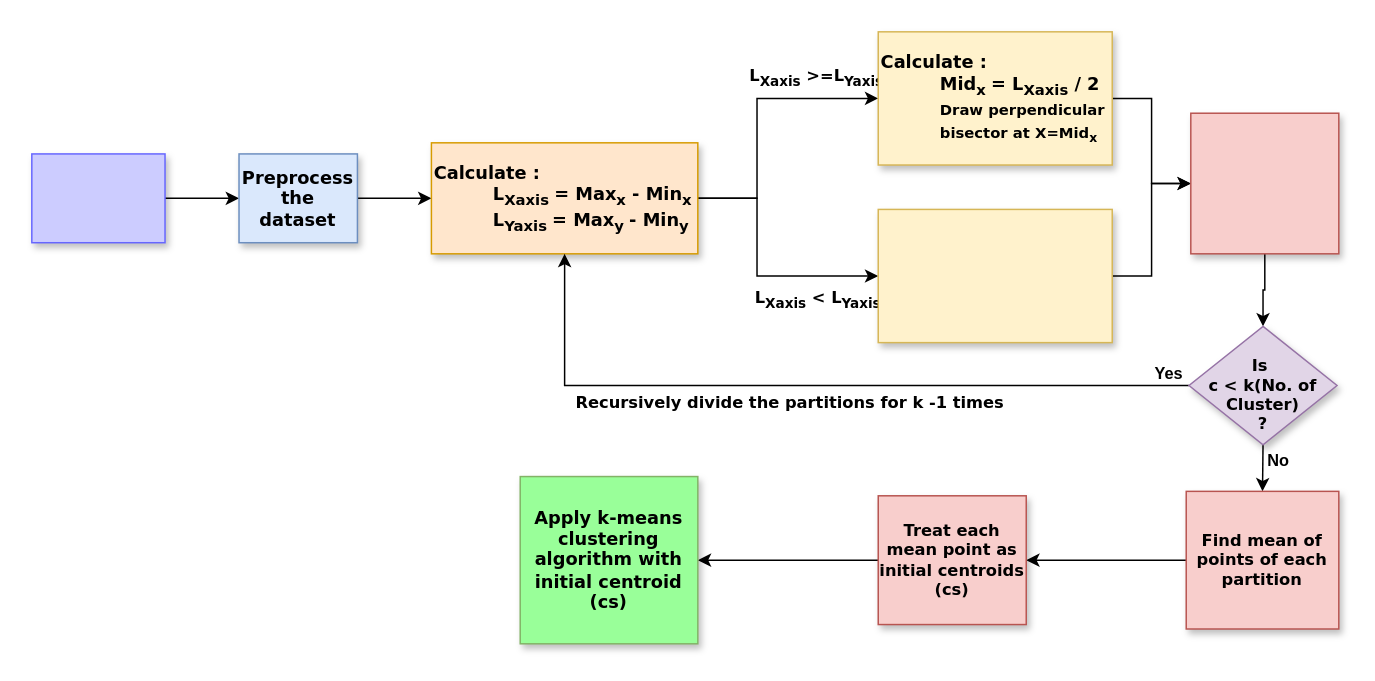
The diagram is 1375 pixels wide and 681 high, and some of its shapes have lost their labels. Each missing label, with the centre of its shape:
"Calculate : Mid y = L Yaxis / 2 Draw perpendicular bisector at Y=Mid y" goes at (996,277).
"New partition generated. Count total partition as c" goes at (1265,185).
"Read the Dataset" goes at (99,200).
